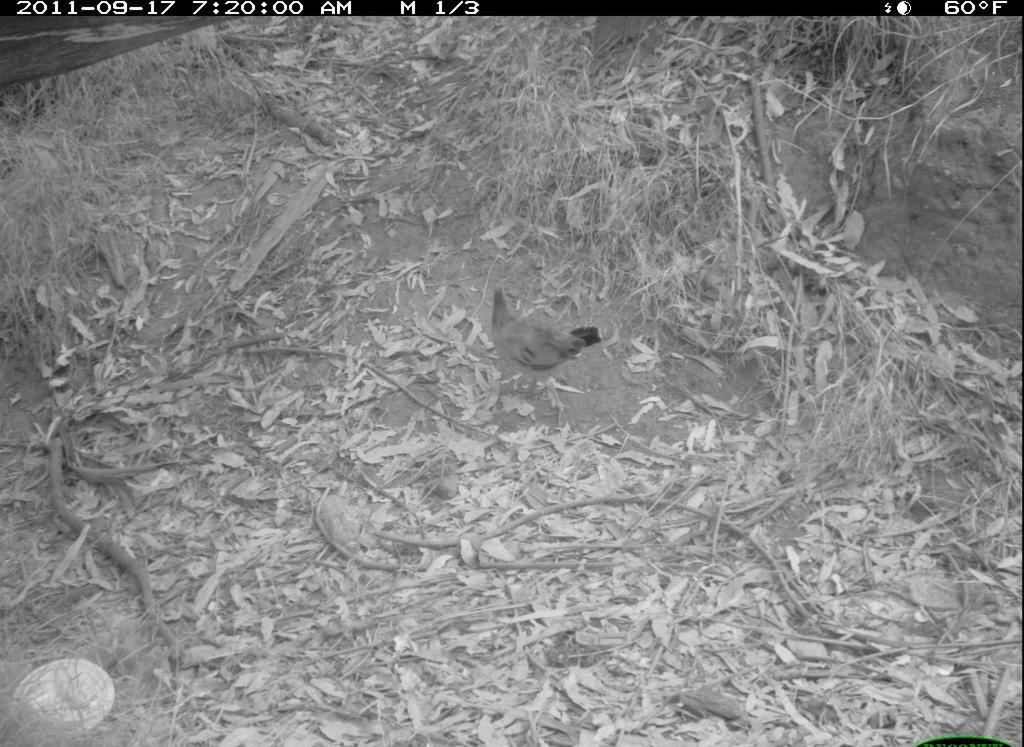bird: (486, 283, 605, 406)
